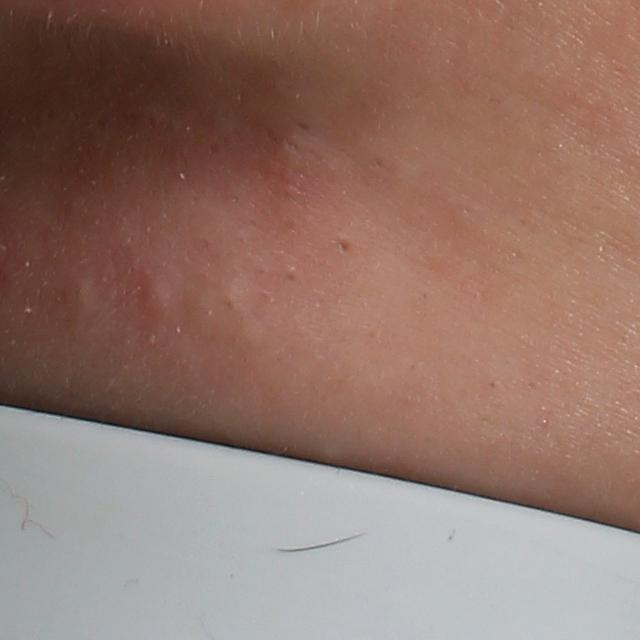comedo: (69, 275, 93, 306), (332, 234, 355, 257), (220, 293, 240, 314), (283, 265, 297, 284)
